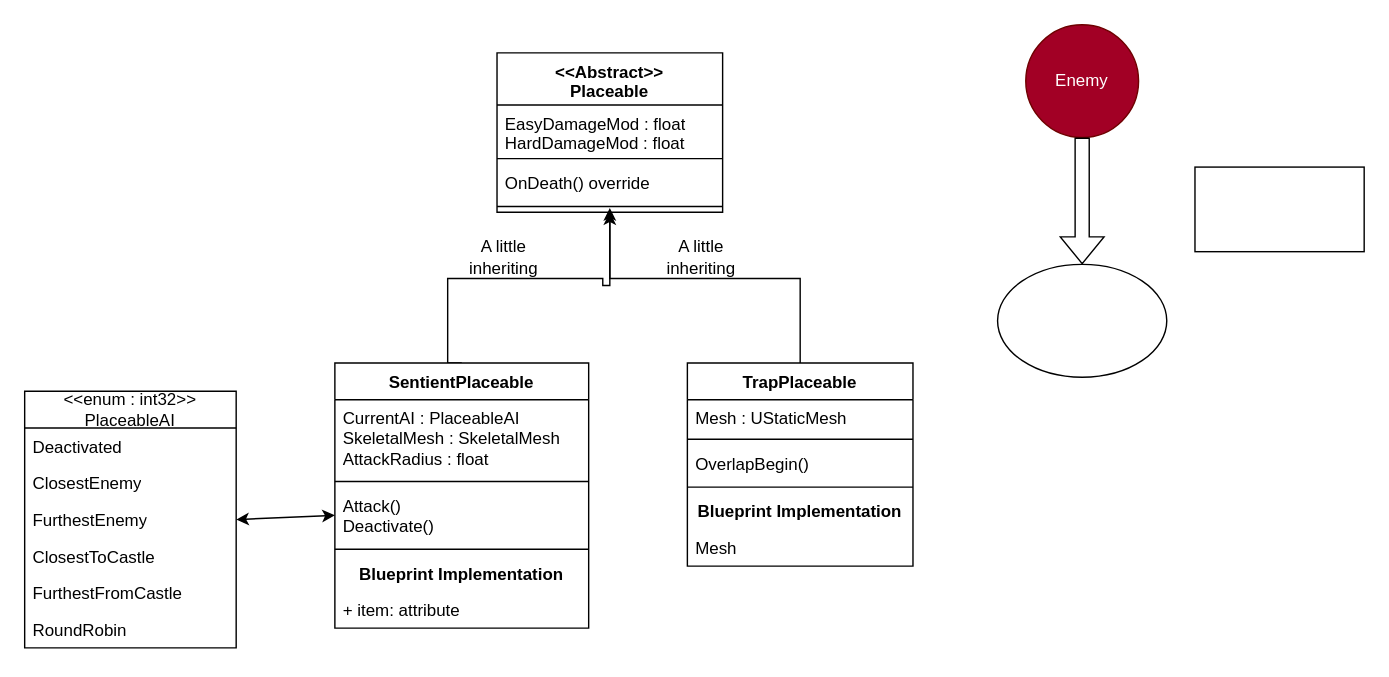
Some shapes in this 1389 by 677 pixel diagram are drawn without their labels. The centre of each missing label's shape, as x and y in pixels:
"Activates an Overlap event" belongs at [1279,209].
"Placeable" belongs at [1081,320].
